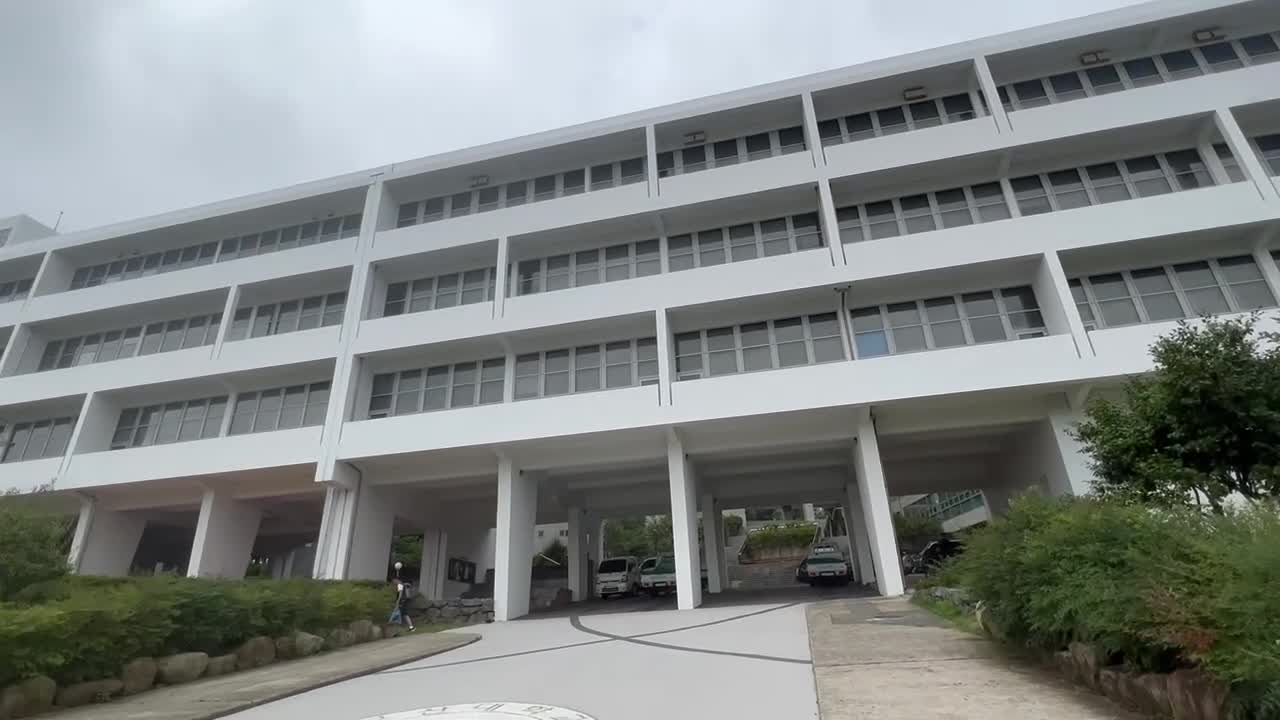medium: (77, 77, 1069, 458)
